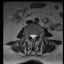CCS_normal: (32, 32, 34, 41)
LFS_stenosis: (36, 32, 38, 38)
LLS_normal: (34, 32, 36, 39)
RFS_normal: (28, 32, 30, 38)
RLS_normal: (30, 32, 32, 39)
